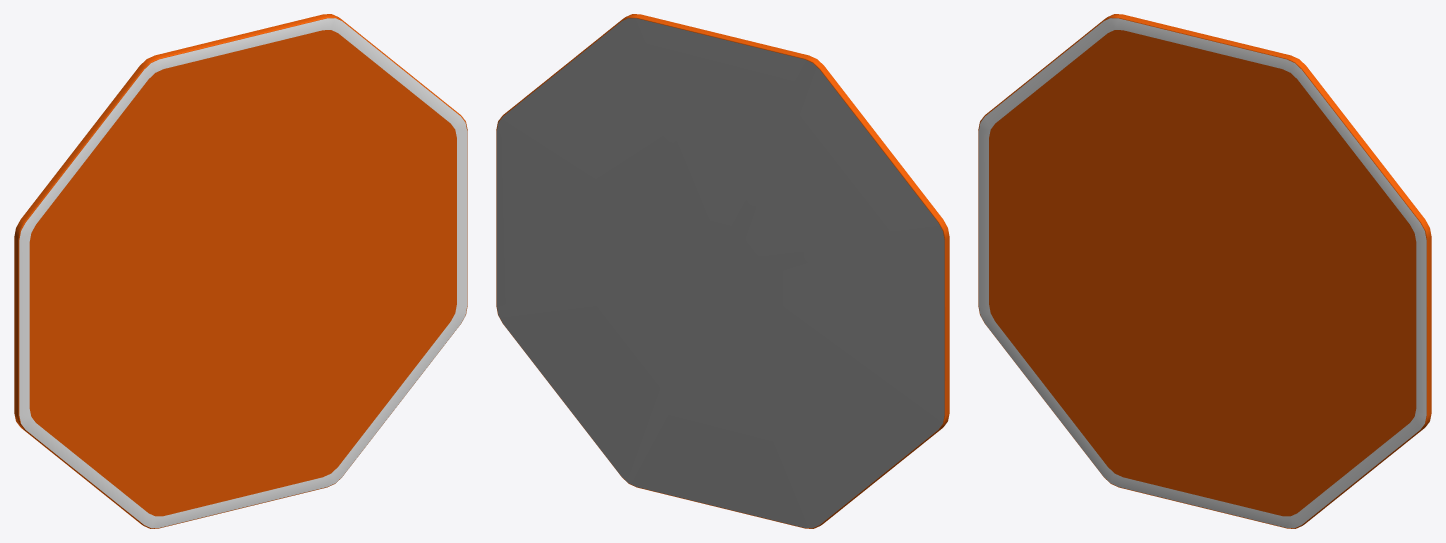
File: signStop.fbx
3 views of the same model, side by side, from view 1: azimuth 30°, elevation 25°; view 2: azimuth 150°, elevation 25°; view 3: azimuth 330°, elevation 25° (orthographic).
Parts seen in each view (by area): view 1: signStop_geo; view 2: signStop_geo; view 3: signStop_geo.
Boxes of the visible parts, <box> form: signStop_geo: <box>14,14,467,528</box>; signStop_geo: <box>496,14,949,528</box>; signStop_geo: <box>978,14,1431,528</box>.
Size of the model in its own units: 76.11 by 76.11 by 1.37.
